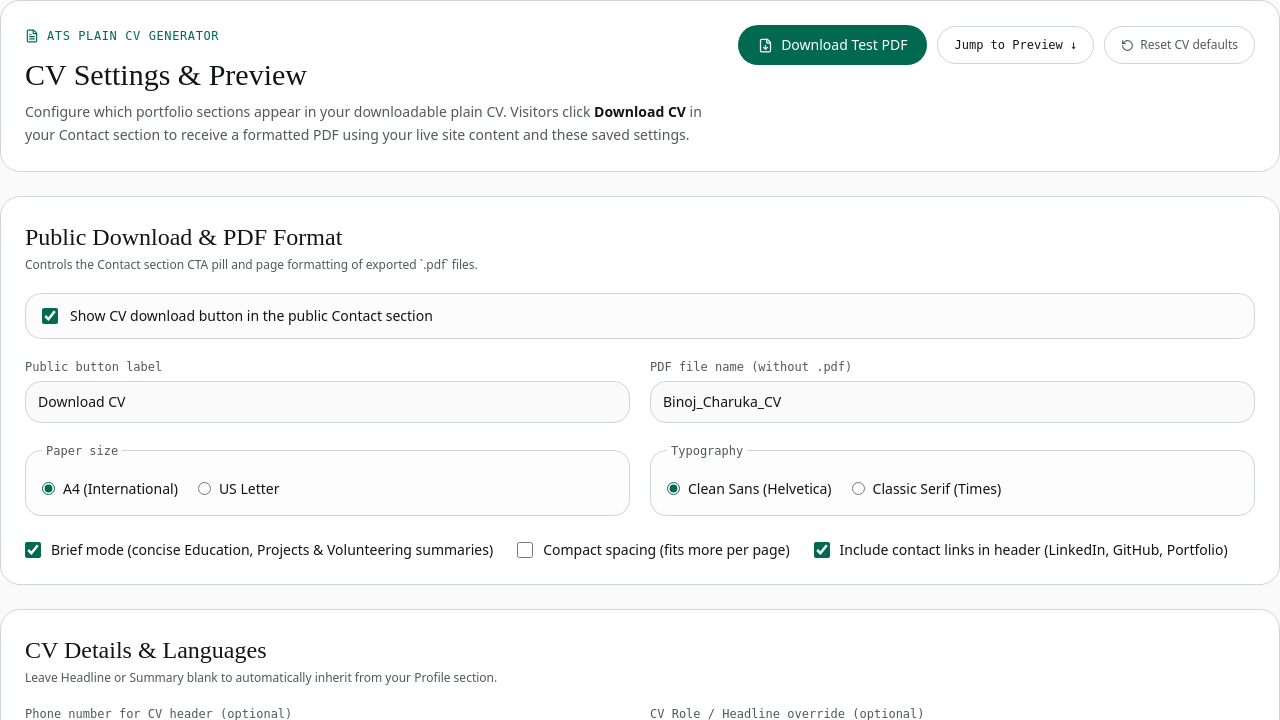
it: AdminCvSettingsPanel & Live Preview UI › handles test PDF download status feedback cleanly
The image size is (1280, 720).
Click the button "Download Test PDF": [833, 45] box [738,25,927,65]
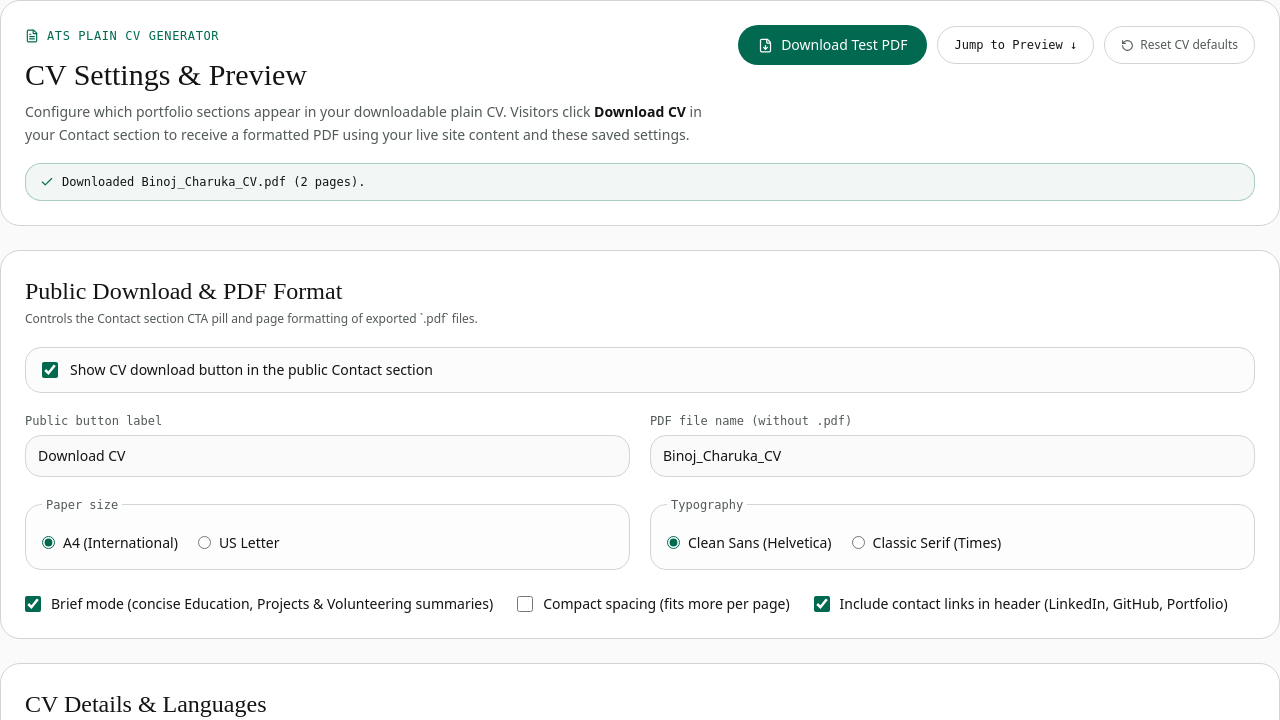
Check: the text "Downloaded Binoj_Charuka_CV.pdf (2 pages)." is shown, box [62,174,365,190]
Click the button "Download Test PDF": [833, 45] box [738,25,927,65]
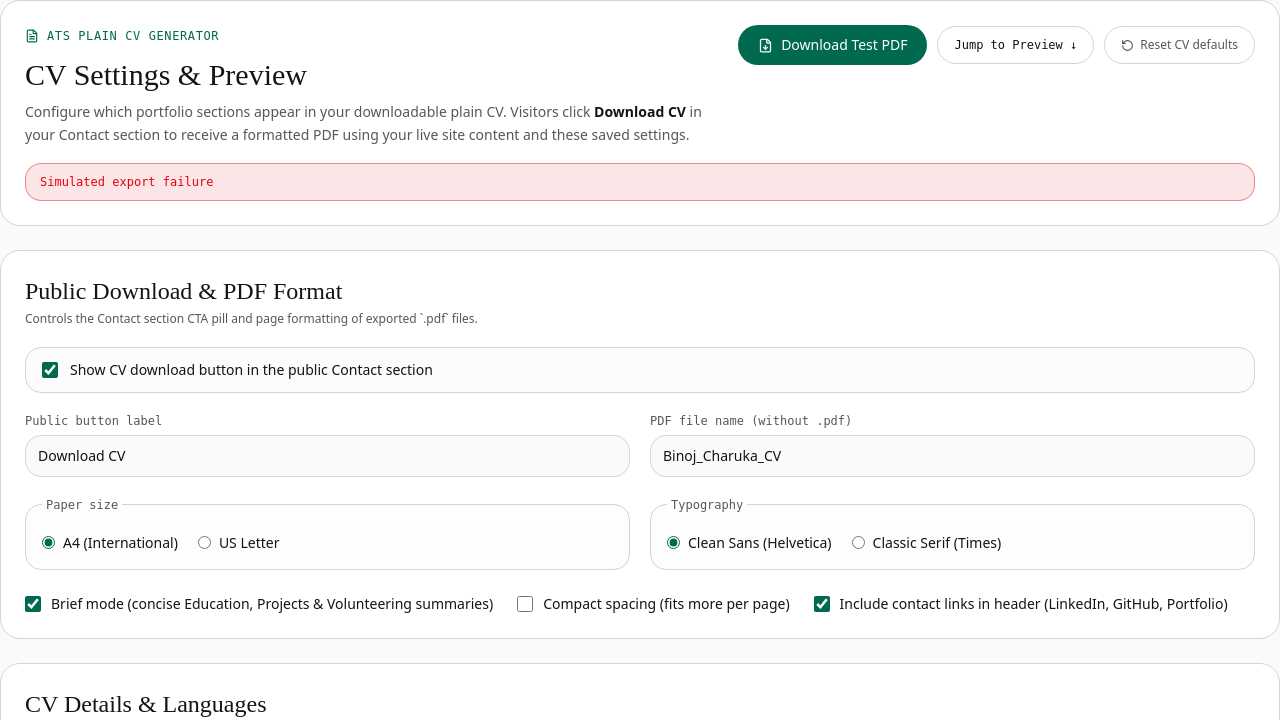
Check: the message reads "Simulated export failure", box [40,174,213,188]
